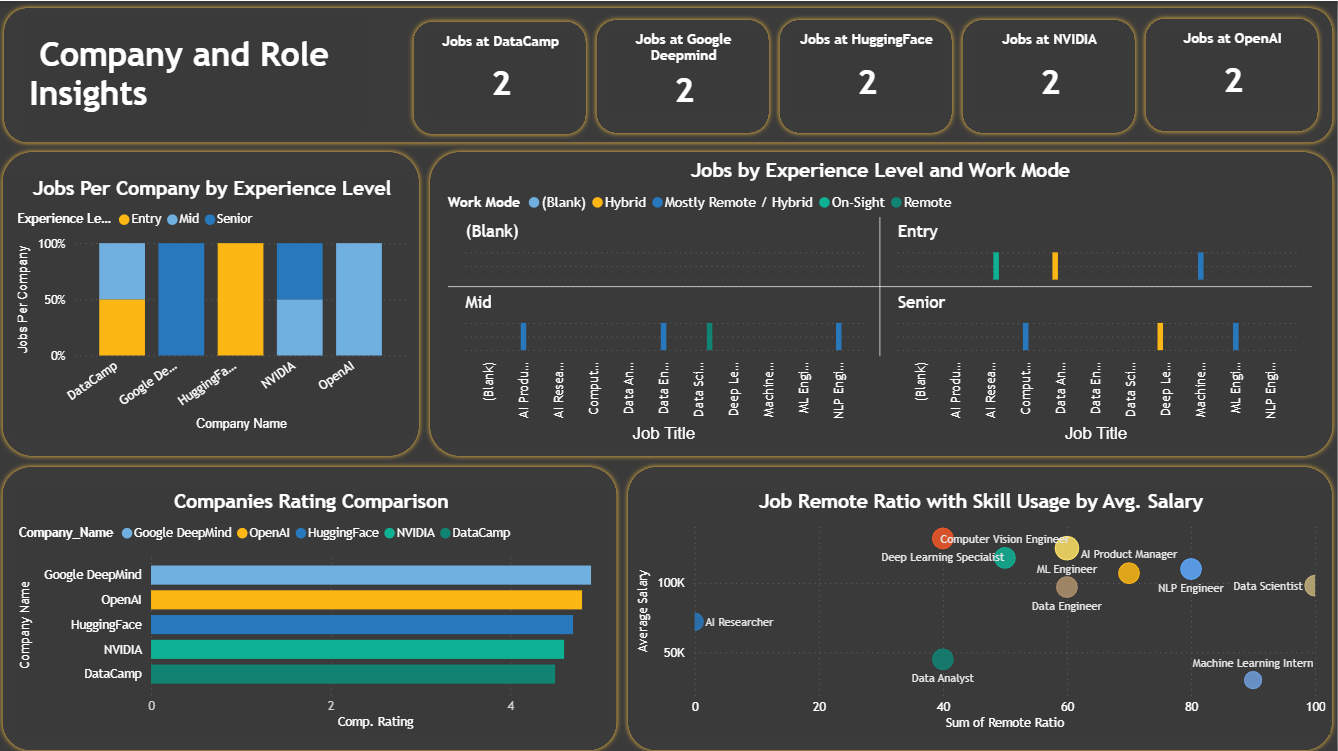

Layout of this report page (visuals, bound fields, positions):
{"tool":"powerbi","page":{"name":"Company and Role Insights","canvas":[1280,720],"ordinal":2},"visuals":[{"type":"group","id":"g1","title":"Group 7","box":[1.4,1.4,1279.1,138.9],"z":0},{"type":"shape","box":[1.4,1.4,1279.1,138.9],"z":0,"group":"g1"},{"type":"textbox","box":[26.3,11.7,324.5,115],"z":1000,"group":"g1"},{"type":"group","id":"g2","title":"Group 3","box":[0,138.9,408.2,300.8],"z":1000},{"type":"group","id":"g3","title":"Group 3","box":[408.2,138.9,872.3,300.8],"z":2000},{"type":"group","id":"g4","title":"Group 3","box":[0,439.7,597.3,280.7],"z":3000},{"type":"group","id":"g5","title":"Group 1","box":[408.2,138.9,872.3,300.8],"z":3001,"group":"g3"},{"type":"group","id":"g6","title":"Group 4","box":[1091.4,11.4,174.8,118.9],"z":4000,"group":"g1"},{"type":"group","id":"g7","title":"Group 3","box":[597.3,439.7,682.8,281.1],"z":4000},{"type":"group","id":"g8","title":"Group 4","box":[916.7,12.9,174.8,118.9],"z":5000,"group":"g1"},{"type":"shape","box":[0,138.9,408.2,300.8],"z":5000,"group":"g2"},{"type":"shape","box":[408.2,138.9,872.3,300.8],"z":5000,"group":"g5"},{"type":"shape","box":[0,439.7,596.9,281.1],"z":5000,"group":"g4"},{"type":"shape","box":[597.3,439.7,682.8,281.1],"z":5000,"group":"g7"},{"type":"group","id":"g9","title":"Group 4","box":[741.9,12.9,174.8,118.9],"z":6000,"group":"g1"},{"type":"shape","box":[1091.4,11.4,175,118.3],"z":7000,"group":"g6"},{"type":"group","id":"g10","title":"Group 4","box":[567.2,12.9,174.8,118.9],"z":7000,"group":"g1"},{"type":"shape","box":[567.2,12.9,175,118.3],"z":7000,"group":"g10"},{"type":"shape","box":[741.9,12.9,175,118.3],"z":7000,"group":"g9"},{"type":"shape","box":[916.7,12.9,175,118.3],"z":7000,"group":"g8"},{"type":"shape","box":[391.8,13.7,175,118.3],"z":7000,"group":"g11"},{"type":"clusteredColumnChart","title":"Jobs by Experience Level and Work Mode","fields":{"Category":["Fact_Jobs.Job_Title"],"Y":["Fact_Jobs.TotalJobs"],"Series":["Fact_Jobs.WorkMode"],"Rows":["Fact_Jobs.Experience_Level"]},"box":[425.5,150.2,836,276.8],"z":7000,"group":"g5"},{"type":"hundredPercentStackedColumnChart","title":"Jobs Per Company by Experience Level","fields":{"Category":["Dim_Companies.Company_Name"],"Y":["Dim_Companies.JobsPerCompany"],"Series":["Fact_Jobs.Experience_Level"]},"box":[13.9,167.7,382,247.9],"z":7000,"group":"g2"},{"type":"scatterChart","title":"Job Remote Ratio with Skill Usage by Avg. Salary","fields":{"Category":["Fact_Jobs.Job_Title"],"X":["Sum(Fact_Jobs.Remote_Ratio)"],"Size":["Dim_Skills.SkillUsageCount"],"Y":["Fact_Jobs.AvgSalary"],"Series":["Fact_Jobs.Job_Title"]},"box":[605.5,467.3,667.5,233.5],"z":7000,"group":"g7"},{"type":"barChart","title":"Companies Rating Comparison","fields":{"Category":["Dim_Companies.Company_Name"],"Series":["Dim_Companies.Company_Name"],"Y":["Dim_Companies.CompanyAvgRating"]},"box":[15.4,467.4,568.8,232.7],"z":7000,"group":"g4"},{"type":"group","id":"g11","title":"Group 4","box":[391.8,13.7,174.8,118.9],"z":8000,"group":"g1"},{"type":"card","title":"Jobs at OpenAI","fields":{"Values":["Fact_Jobs.TotalJobs"]},"box":[1107.4,27.1,145.4,79.8],"z":10000,"group":"g6"},{"type":"card","title":"Jobs at Google Deepmind","fields":{"Values":["Fact_Jobs.TotalJobs"]},"box":[583.2,28.6,145.4,79.8],"z":10000,"group":"g10"},{"type":"card","title":"Jobs at HuggingFace","fields":{"Values":["Fact_Jobs.TotalJobs"]},"box":[757.9,28.6,145.4,79.8],"z":10000,"group":"g9"},{"type":"card","title":"Jobs at NVIDIA","fields":{"Values":["Fact_Jobs.TotalJobs"]},"box":[932.7,28.6,145.4,79.8],"z":10000,"group":"g8"},{"type":"card","title":"Jobs at DataCamp","fields":{"Values":["Fact_Jobs.TotalJobs"]},"box":[407.8,29.4,145.4,79.8],"z":10000,"group":"g11"}]}

Visuals, with their boxes in screenshot pixels (x1, y1, x2, y2), scaled from the page's 1280x720 canvas onto the 1338x751 screenshot:
"Group 7" group: l=1, t=1, r=1337, b=146
shape: l=1, t=1, r=1337, b=146
textbox: l=27, t=12, r=367, b=132
"Group 3" group: l=0, t=145, r=427, b=459
"Group 3" group: l=427, t=145, r=1337, b=459
"Group 3" group: l=0, t=459, r=624, b=750
"Group 1" group: l=427, t=145, r=1337, b=459
"Group 4" group: l=1141, t=12, r=1324, b=136
"Group 3" group: l=624, t=459, r=1337, b=750
"Group 4" group: l=958, t=13, r=1141, b=137
shape: l=0, t=145, r=427, b=459
shape: l=427, t=145, r=1337, b=459
shape: l=0, t=459, r=624, b=750
shape: l=624, t=459, r=1337, b=750
"Group 4" group: l=776, t=13, r=958, b=137
shape: l=1141, t=12, r=1324, b=135
"Group 4" group: l=593, t=13, r=776, b=137
shape: l=593, t=13, r=776, b=137
shape: l=776, t=13, r=958, b=137
shape: l=958, t=13, r=1141, b=137
shape: l=410, t=14, r=592, b=138
"Jobs by Experience Level and Work Mode" clusteredColumnChart: l=445, t=157, r=1319, b=445
"Jobs Per Company by Experience Level" hundredPercentStackedColumnChart: l=15, t=175, r=414, b=433
"Job Remote Ratio with Skill Usage by Avg. Salary" scatterChart: l=633, t=487, r=1331, b=731
"Companies Rating Comparison" barChart: l=16, t=488, r=611, b=730
"Group 4" group: l=410, t=14, r=592, b=138
"Jobs at OpenAI" card: l=1158, t=28, r=1310, b=112
"Jobs at Google Deepmind" card: l=610, t=30, r=762, b=113
"Jobs at HuggingFace" card: l=792, t=30, r=944, b=113
"Jobs at NVIDIA" card: l=975, t=30, r=1127, b=113
"Jobs at DataCamp" card: l=426, t=31, r=578, b=114
